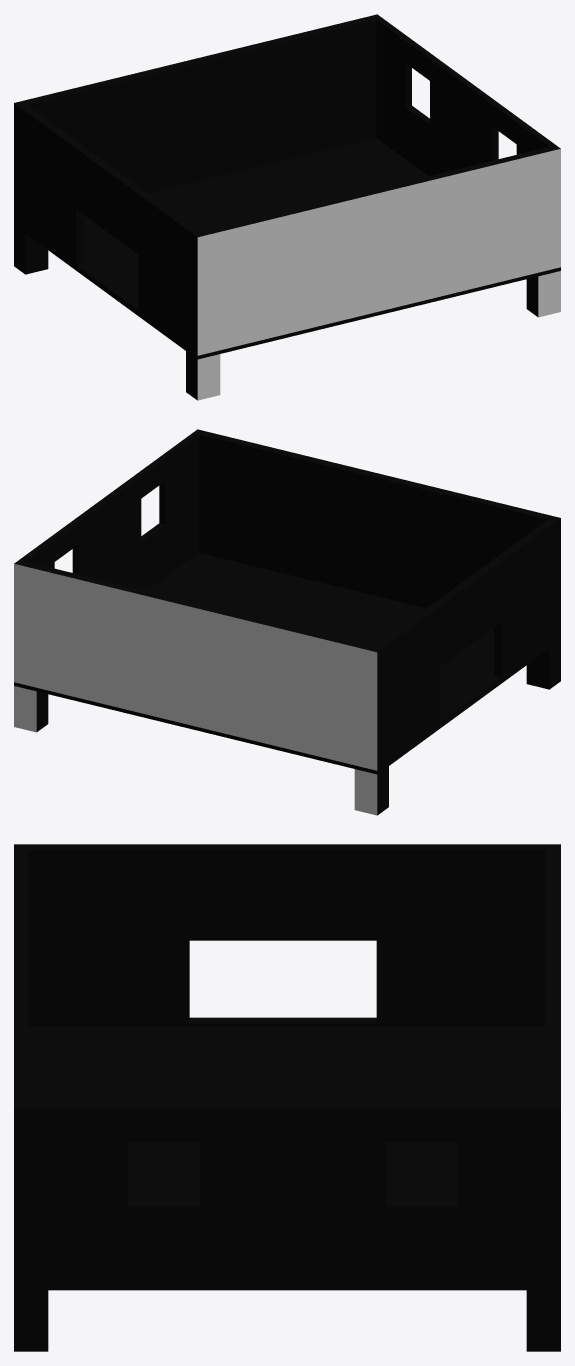
File: house.fbx
3 renders of one model, top to bottom at view 1: azimuth 30°, elevation 25°; view 2: azimuth 150°, elevation 25°; view 3: azimuth 270°, elevation 25°, orthographic. The views are drawn at different scales.
Visible parts, largest first — view 1: Cube; view 2: Cube; view 3: Cube.
Boxes of the visible parts, <box> form: Cube: <box>14,14,560,400</box>; Cube: <box>14,429,560,815</box>; Cube: <box>14,844,560,1351</box>.
Size of the model in its own units: 237 by 102 by 207.
